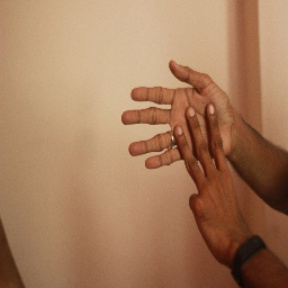M: (115, 58, 240, 204)
